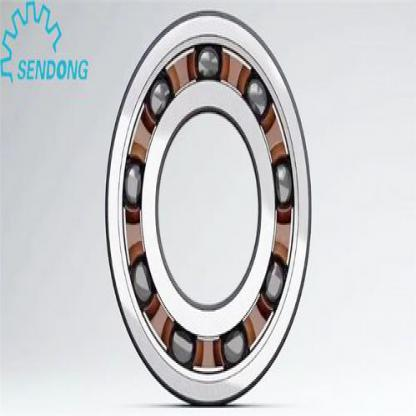FOD: (99, 5, 317, 405)
